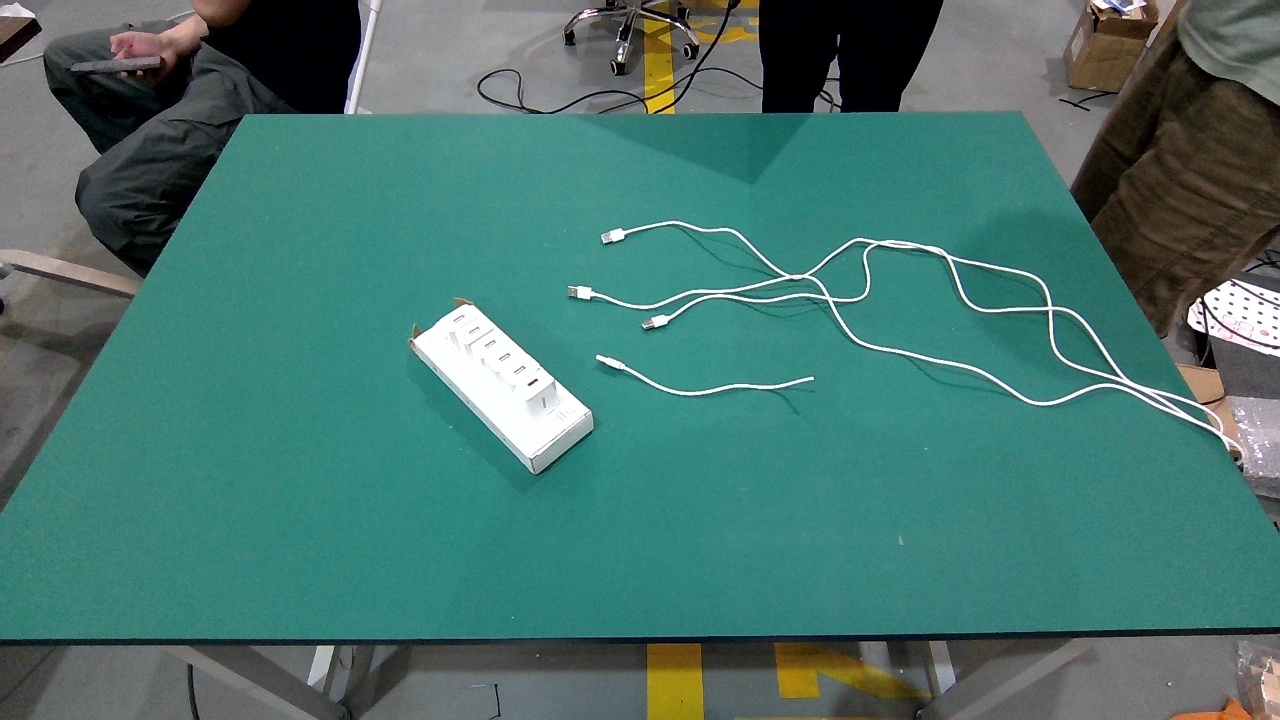usb_a_plug: (594, 352, 632, 375), (641, 310, 678, 332), (599, 224, 635, 246), (566, 283, 602, 303)
